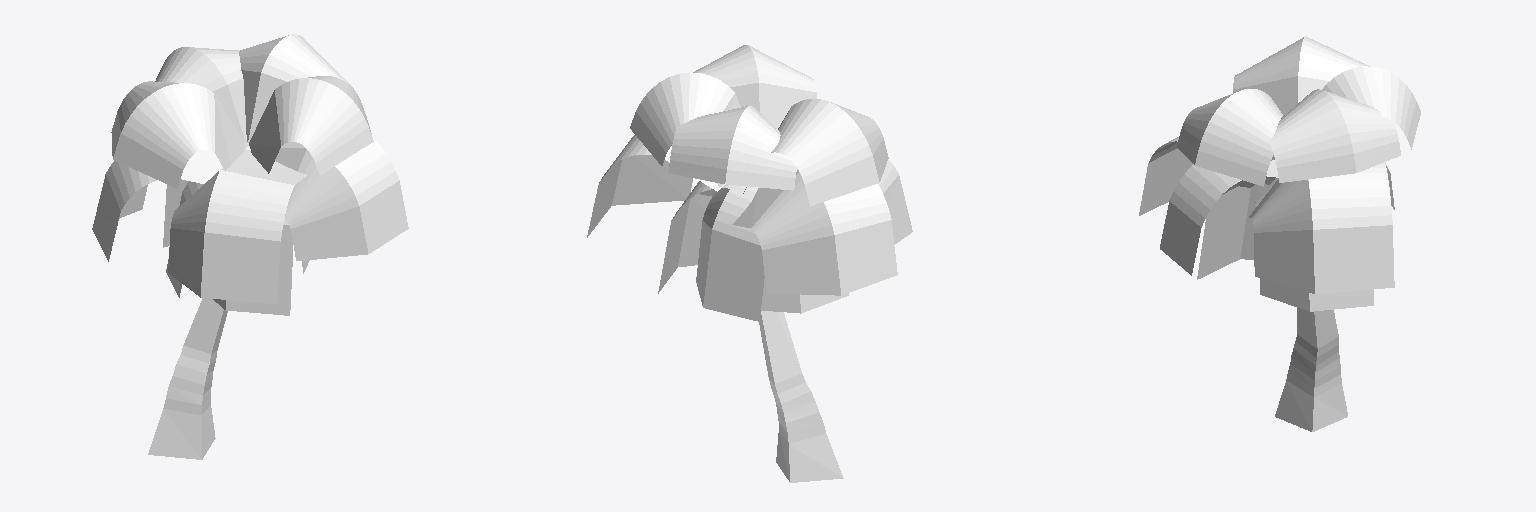
The model's file is CartoonPalmTree_1.obj.
3 views of the same model, side by side, from view 1: azimuth 30°, elevation 25°; view 2: azimuth 150°, elevation 25°; view 3: azimuth 270°, elevation 25° (orthographic).
Parts seen in each view (by area): view 1: Cartoon Palm Tree 1; view 2: Cartoon Palm Tree 1; view 3: Cartoon Palm Tree 1.
Part boxes in pixels (x1,y1,x2,y2): Cartoon Palm Tree 1: (92, 34, 408, 459); Cartoon Palm Tree 1: (587, 45, 912, 482); Cartoon Palm Tree 1: (1139, 36, 1420, 431).
Size of the model in its own units: 15.8 by 20.51 by 13.96.